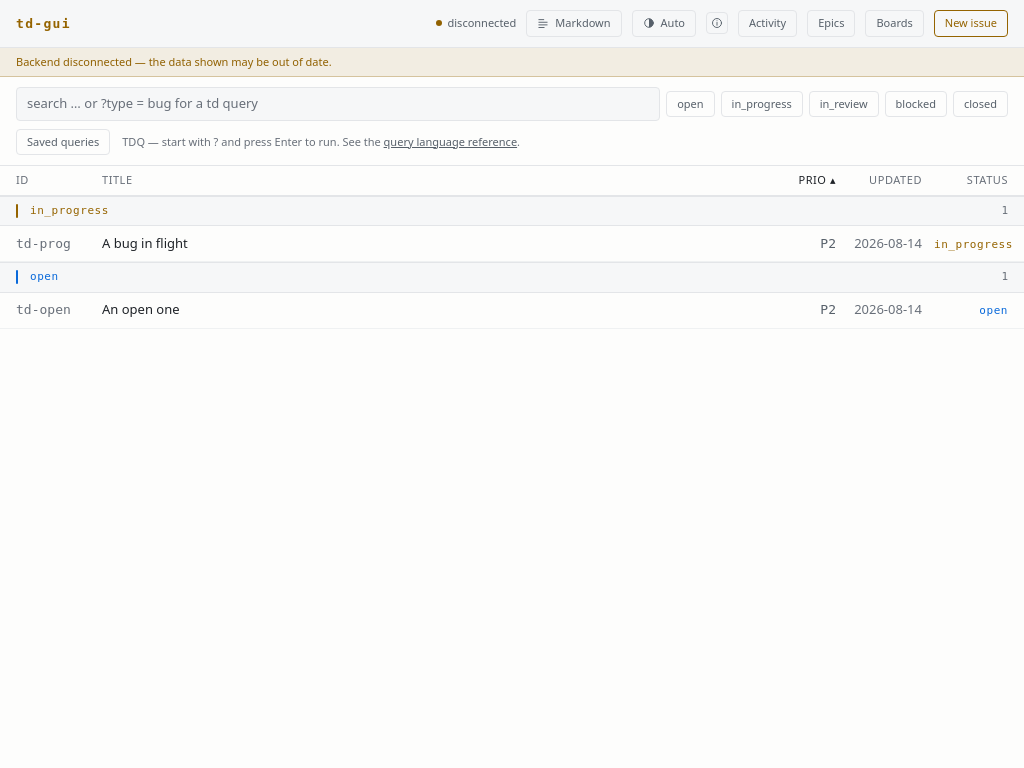
Test: App routing › still has the filter after opening an issue and coming back
The width and height of the screenshot is (1024, 768).
Expected: the text "A bug in flight" is shown, [102, 234, 188, 252]
Click the checkbox labelled "in_progress" at (762, 104), box [721, 90, 803, 117]
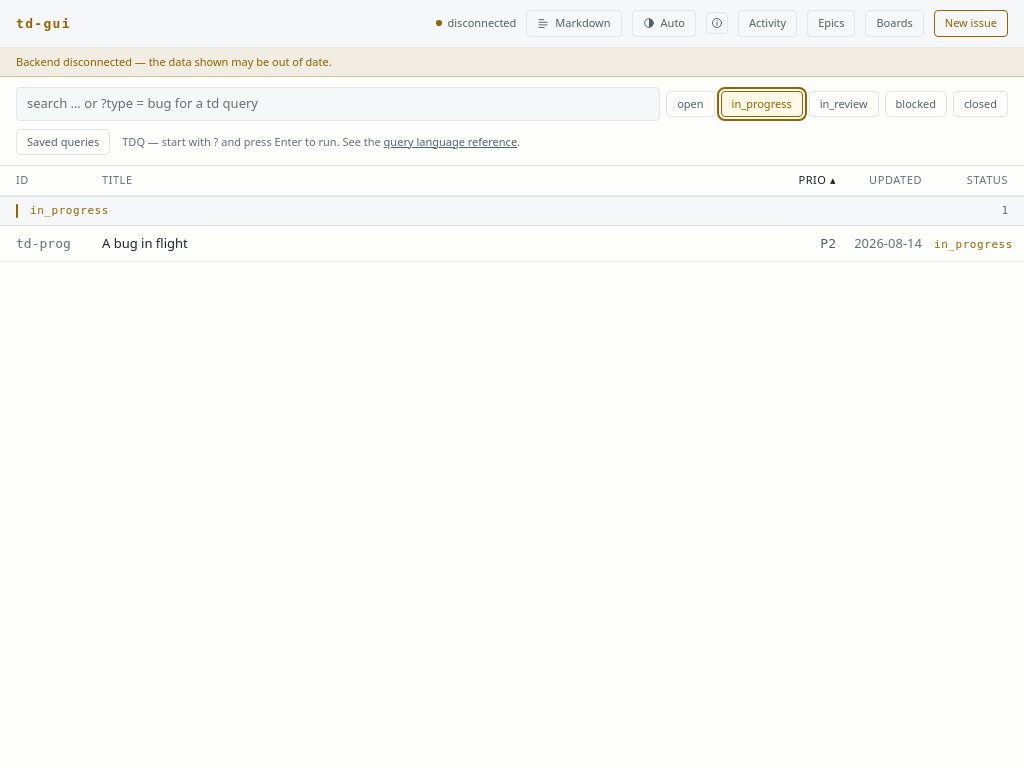
Expected: the link "An open one" is gone
Click the text "A bug in flight" at (145, 243), box [102, 234, 188, 252]
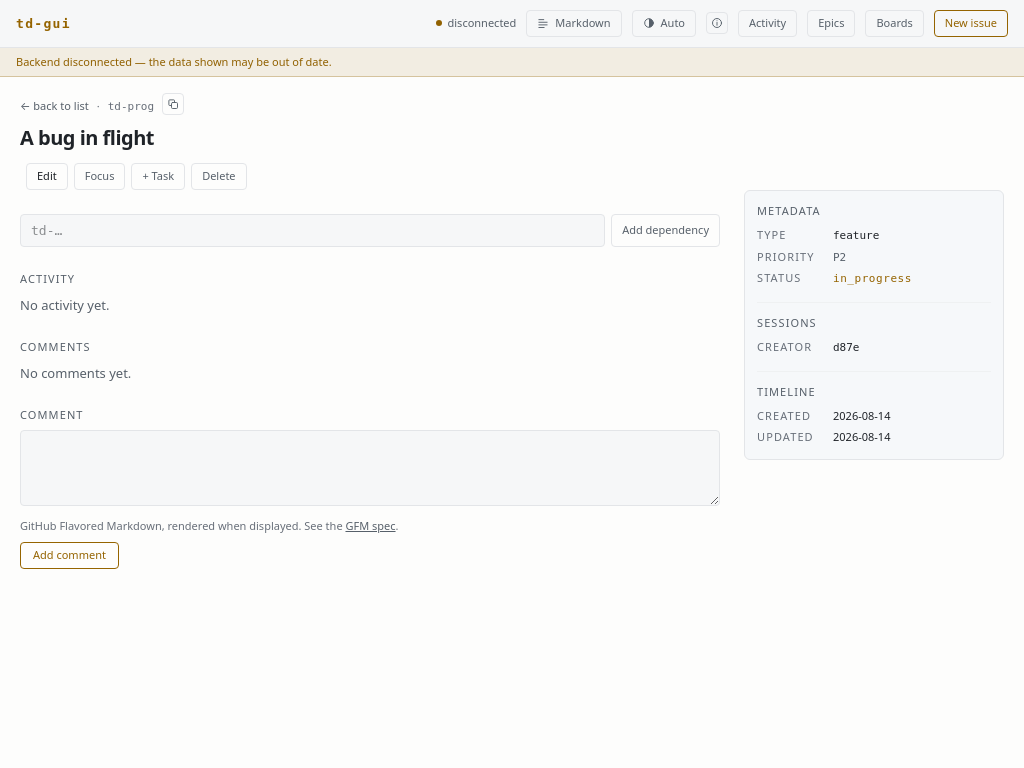
Expected: the link "← back to list" is shown
Click the link "← back to list" at (54, 106), box [20, 98, 89, 114]
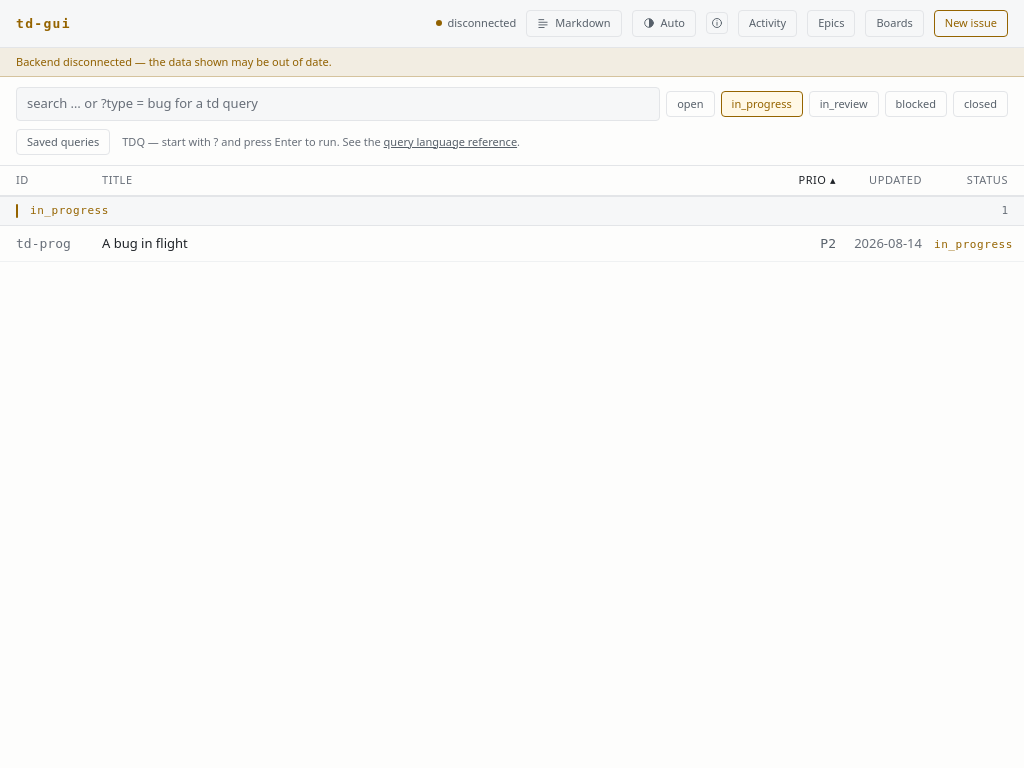
Expected: the text "A bug in flight" is shown, [102, 234, 188, 252]
Expected: the checkbox labelled "in_progress" is checked, [721, 90, 803, 117]
